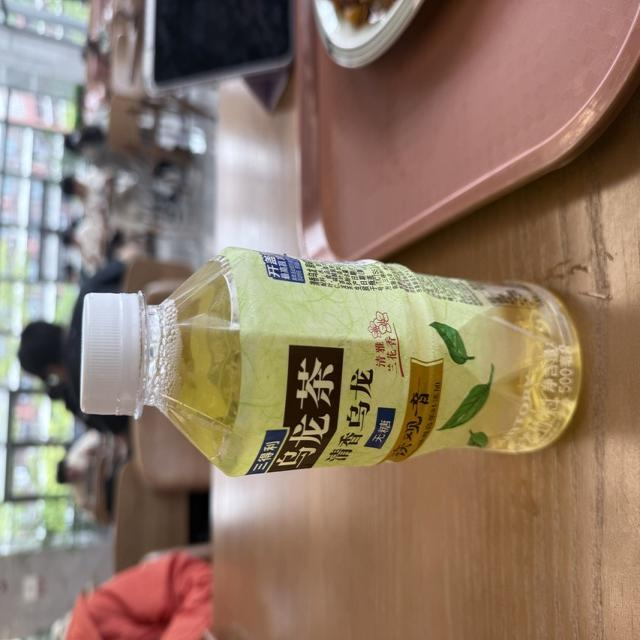high: (80, 248, 580, 478)
